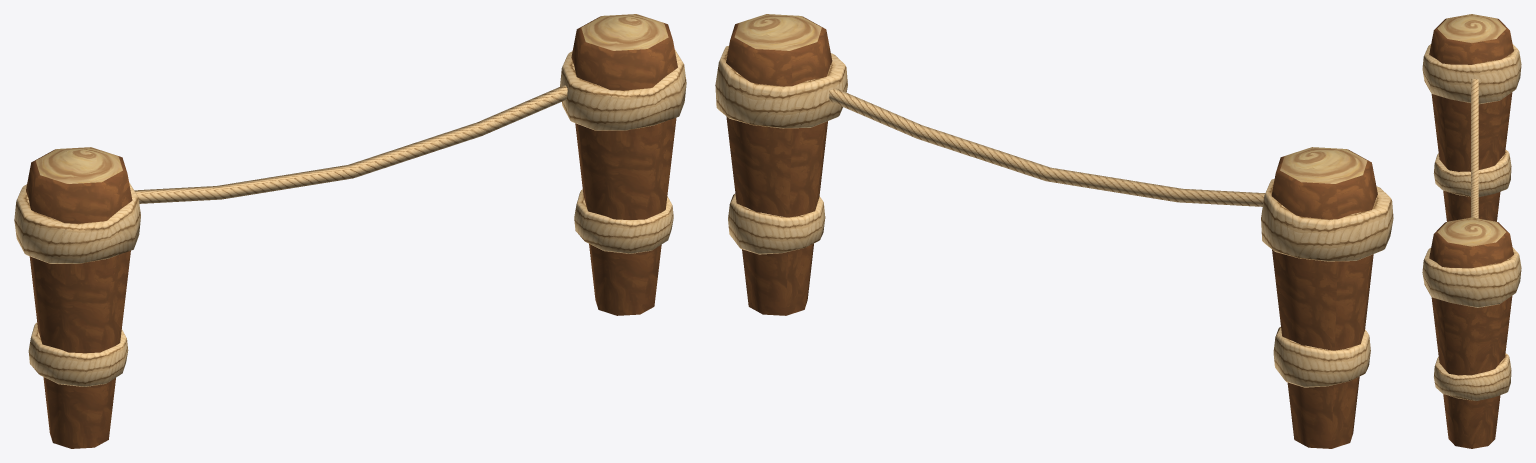
Rendered from RopeFence1.fbx.
The picture shows the model from 3 angles, left to right: view 1: azimuth 30°, elevation 25°; view 2: azimuth 150°, elevation 25°; view 3: azimuth 270°, elevation 25°; orthographic projection. The views are drawn at different scales.
Parts seen in each view (by area): view 1: Fencetall; view 2: Fencetall; view 3: Fencetall.
Boxes of the visible parts, x1,y1,x2,y2 form: Fencetall: (14, 14, 686, 448); Fencetall: (715, 14, 1393, 448); Fencetall: (1422, 14, 1521, 448).
Size of the model in its own units: 45.92 by 18.68 by 7.82.
